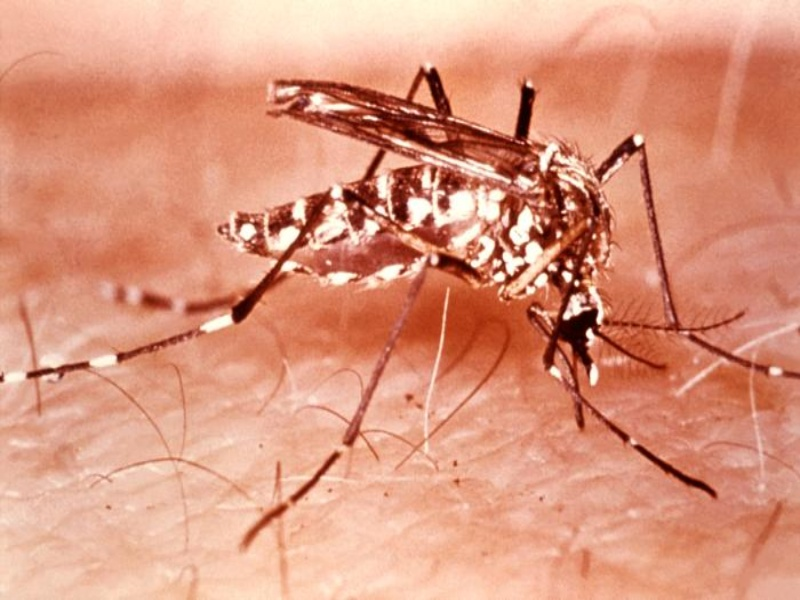dengue_mosquito: (221, 63, 733, 388)
